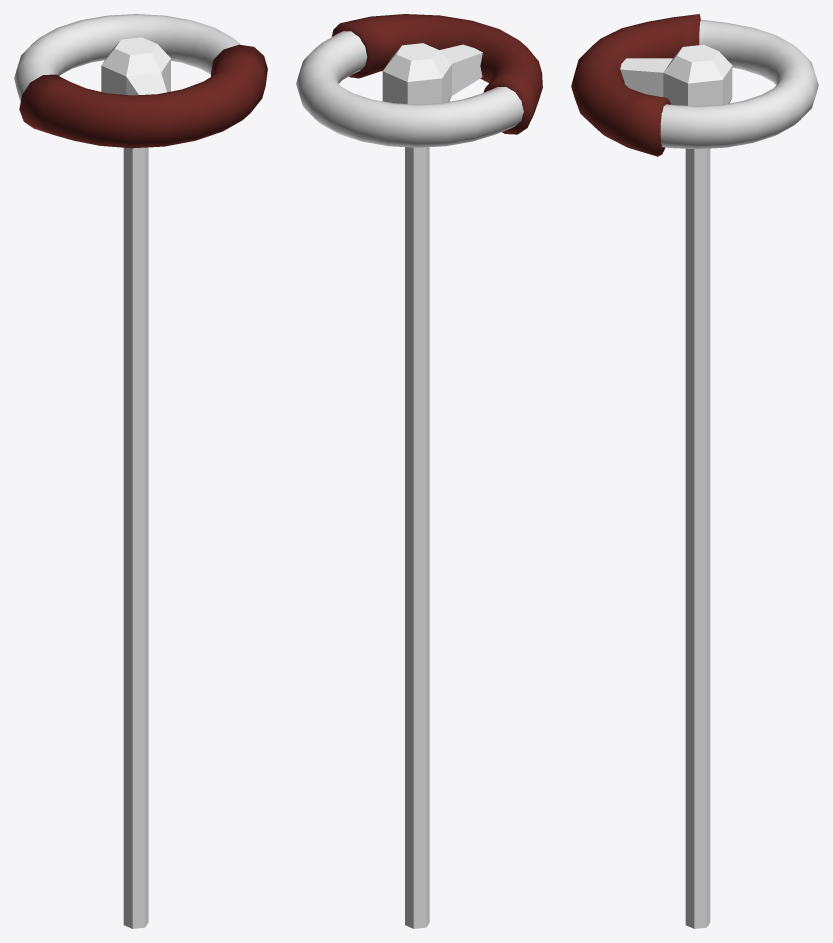
Rendered from lampara.fbx.
3 views of the same model, side by side, from view 1: azimuth 30°, elevation 25°; view 2: azimuth 150°, elevation 25°; view 3: azimuth 270°, elevation 25° (orthographic).
Visible parts, largest first — view 1: Pie, Cubierta, Luz; view 2: Pie, Luz, Cubierta; view 3: Pie, Luz, Cubierta.
Part boxes in pixels (bbox=[...]): Pie: bbox=[101, 37, 170, 928]; Cubierta: bbox=[19, 44, 267, 148]; Luz: bbox=[14, 14, 240, 101]; Pie: bbox=[382, 43, 482, 928]; Luz: bbox=[296, 31, 523, 147]; Cubierta: bbox=[332, 14, 542, 134]; Pie: bbox=[620, 44, 732, 928]; Luz: bbox=[660, 20, 818, 149]; Cubierta: bbox=[571, 14, 700, 156].
Size of the model in its own units: 1216 by 314 by 327.
